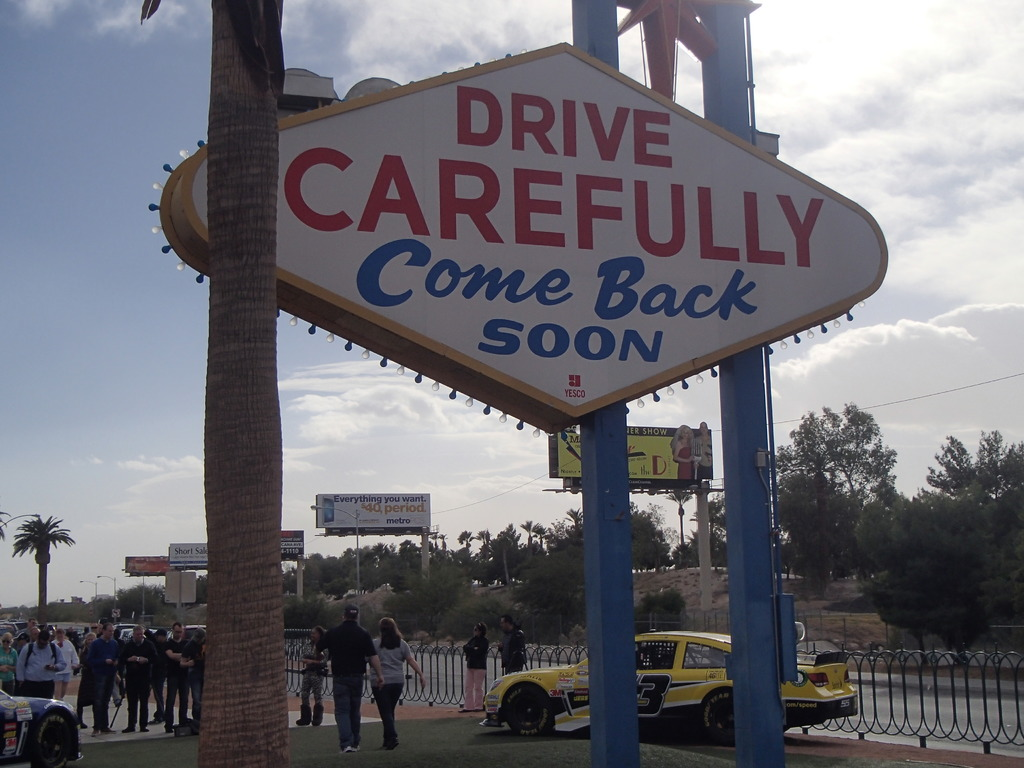Car: (476, 630, 860, 749), (0, 687, 80, 767)
